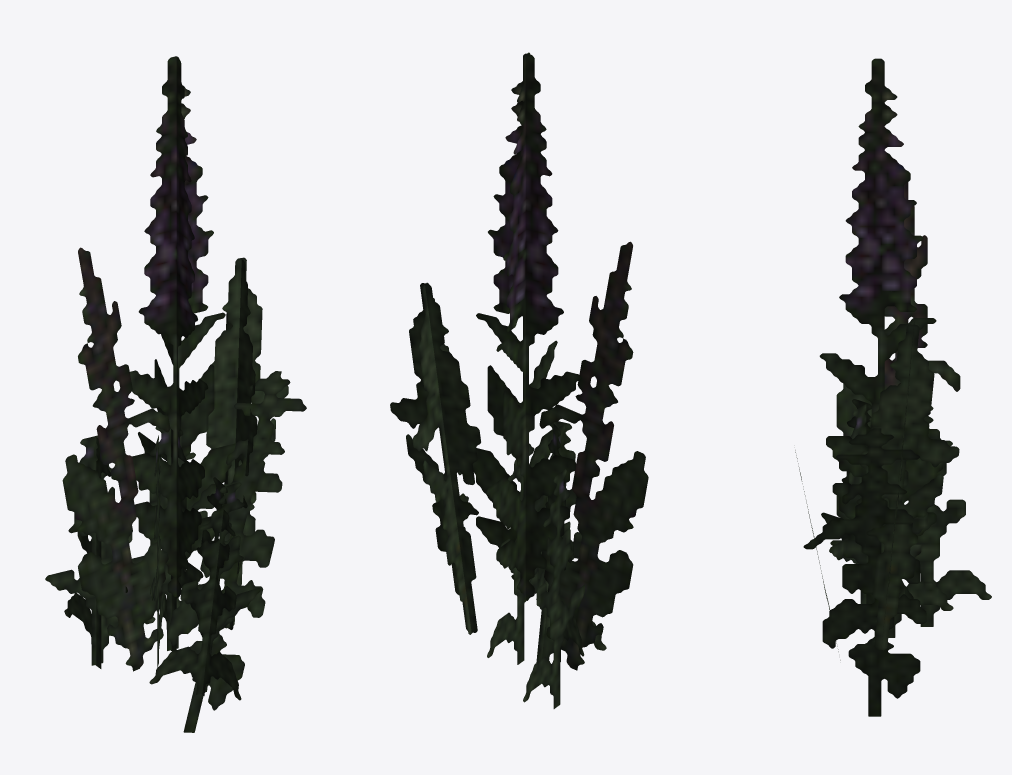
Rendered from SM_EC_Plant_Bush_00.fbx.
3 views of the same model, side by side, from view 1: azimuth 30°, elevation 25°; view 2: azimuth 150°, elevation 25°; view 3: azimuth 270°, elevation 25° (orthographic). The views are drawn at different scales.
Visible parts, largest first — view 1: SM_EC_Plant_Bush_00; view 2: SM_EC_Plant_Bush_00; view 3: SM_EC_Plant_Bush_00.
Part boxes in pixels (bbox=[...]): SM_EC_Plant_Bush_00: bbox=[45, 56, 306, 732]; SM_EC_Plant_Bush_00: bbox=[390, 52, 648, 708]; SM_EC_Plant_Bush_00: bbox=[795, 58, 991, 716].
Bounding box in the file's own units: 0.8645 × 0.6521 × 1.81.
